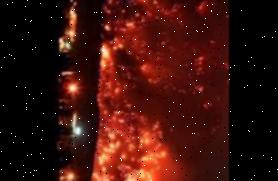fire: (82, 0, 182, 181)
